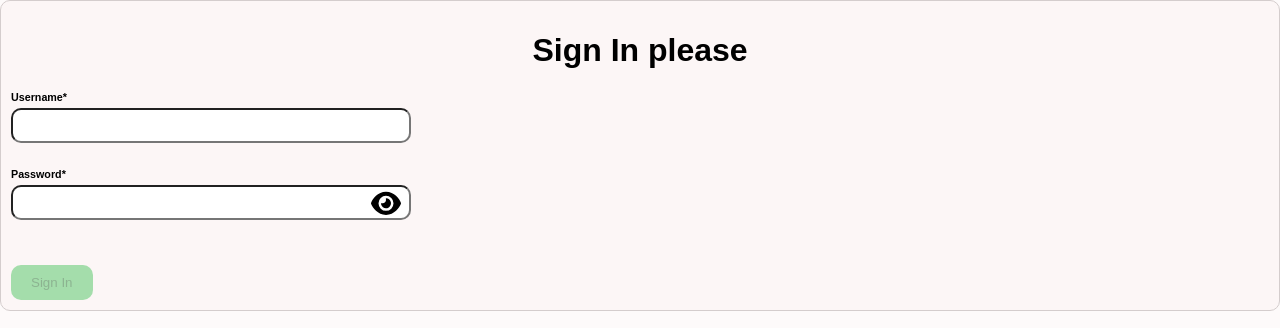
Test: Sign In page › Test fields with invalid values
Type "ad" into the field with test id "signin-username-testid".
click(211, 125); type("ad")  # box [11,108,411,143]
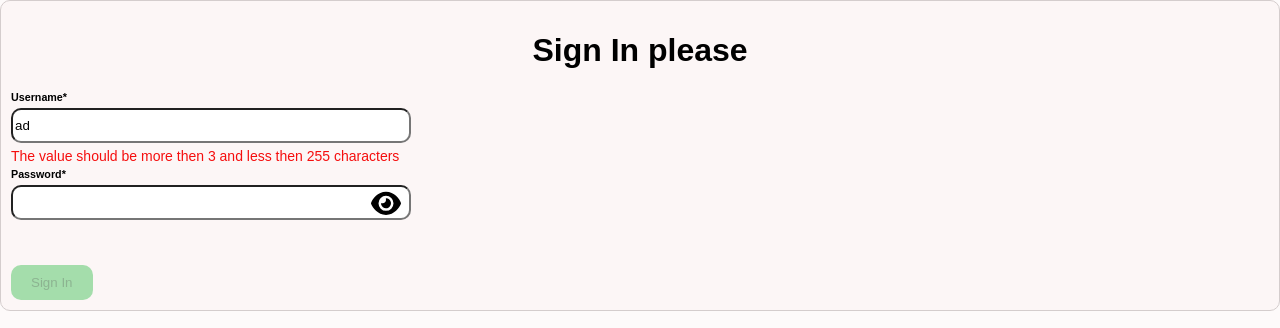
Type "ad" into the password field with test id "signin-password-testid".
click(211, 202); type("ad")  # box [11,185,411,220]
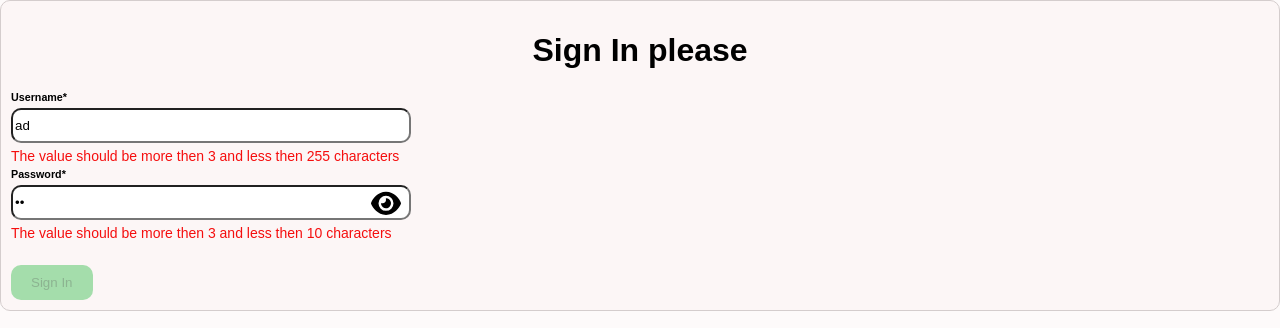
Result: the number of elements with test id "input-field-error-message-testid" is 2 at [11,148,399,164]; [11,225,392,241]
